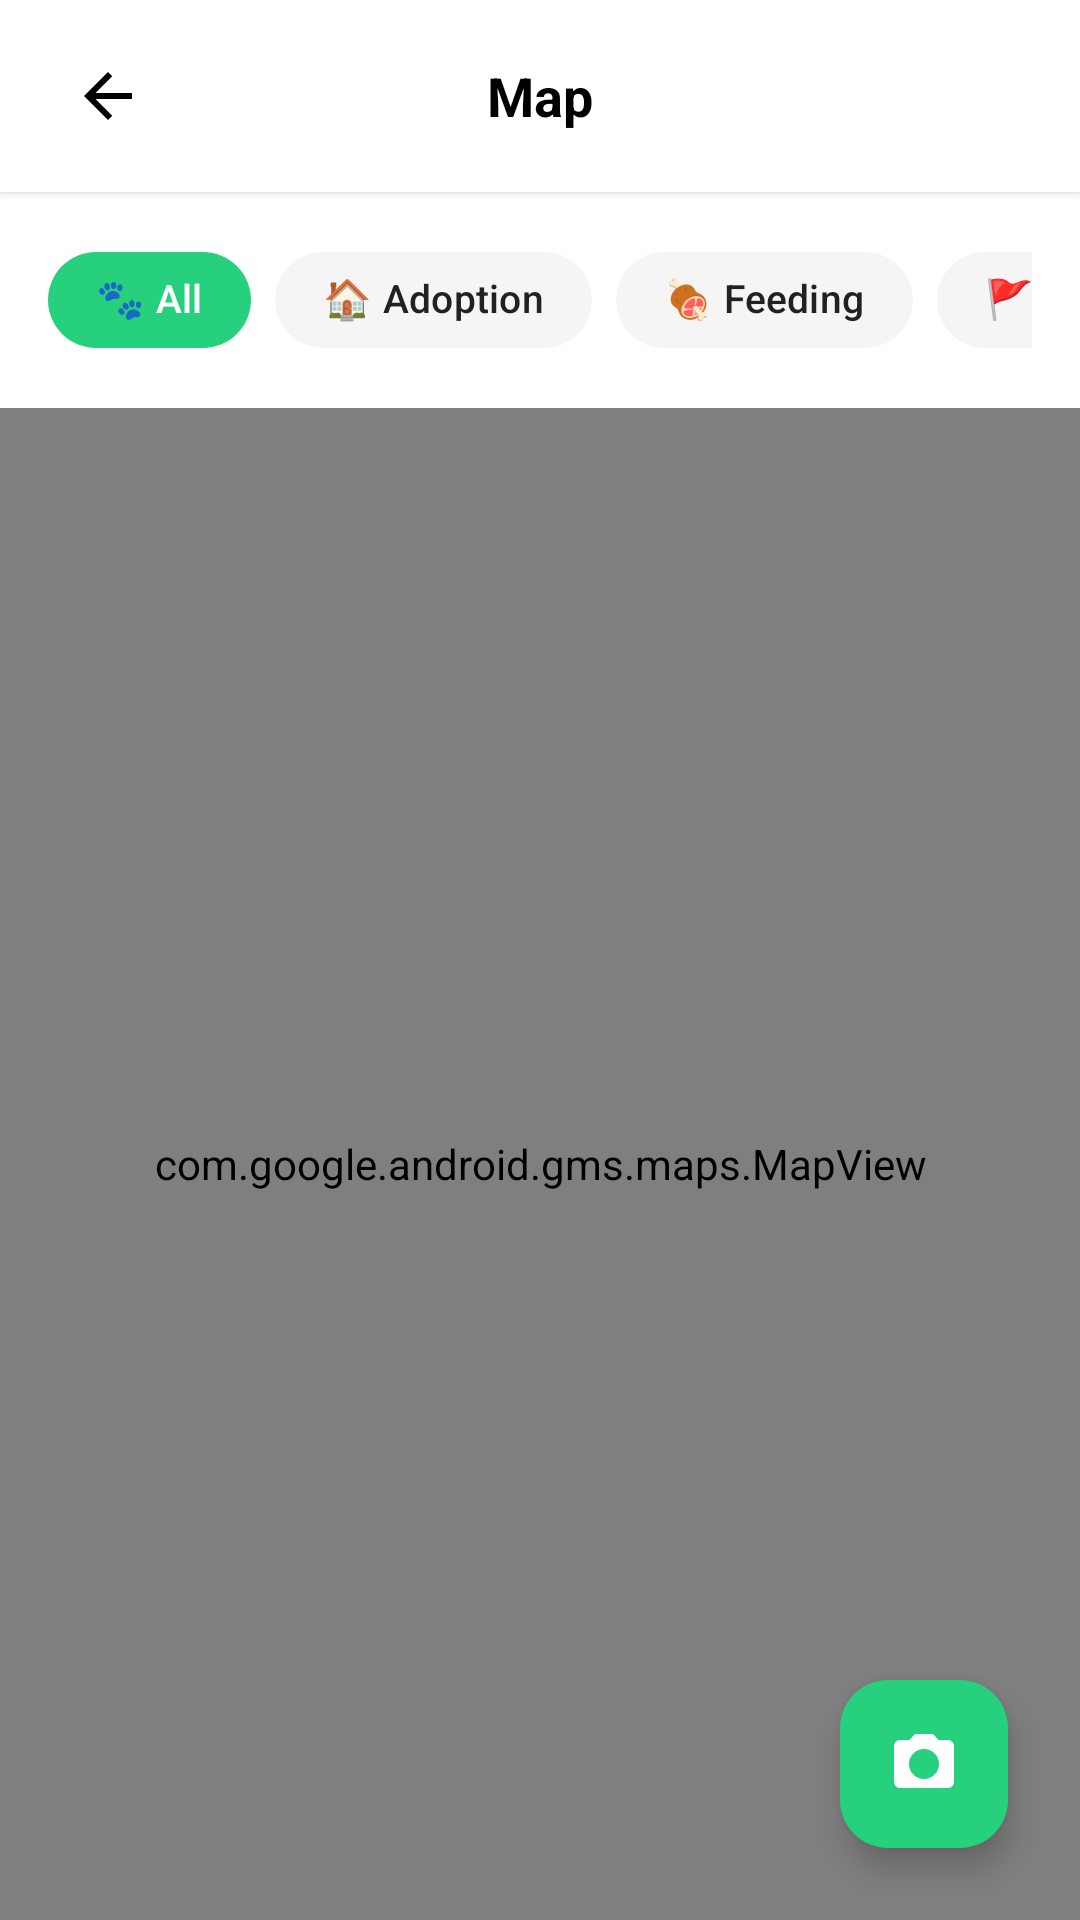

Named icons in this screenshot (1080*1920) and their bounding boxes, rect(x1, y1, x2, y2):
Geri: rect(84, 72, 132, 120)
Gönderi Oluştur: rect(840, 1680, 1008, 1848)
